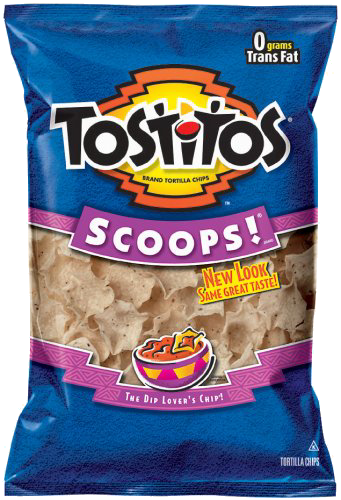grozi_115: (4, 4, 337, 498)
